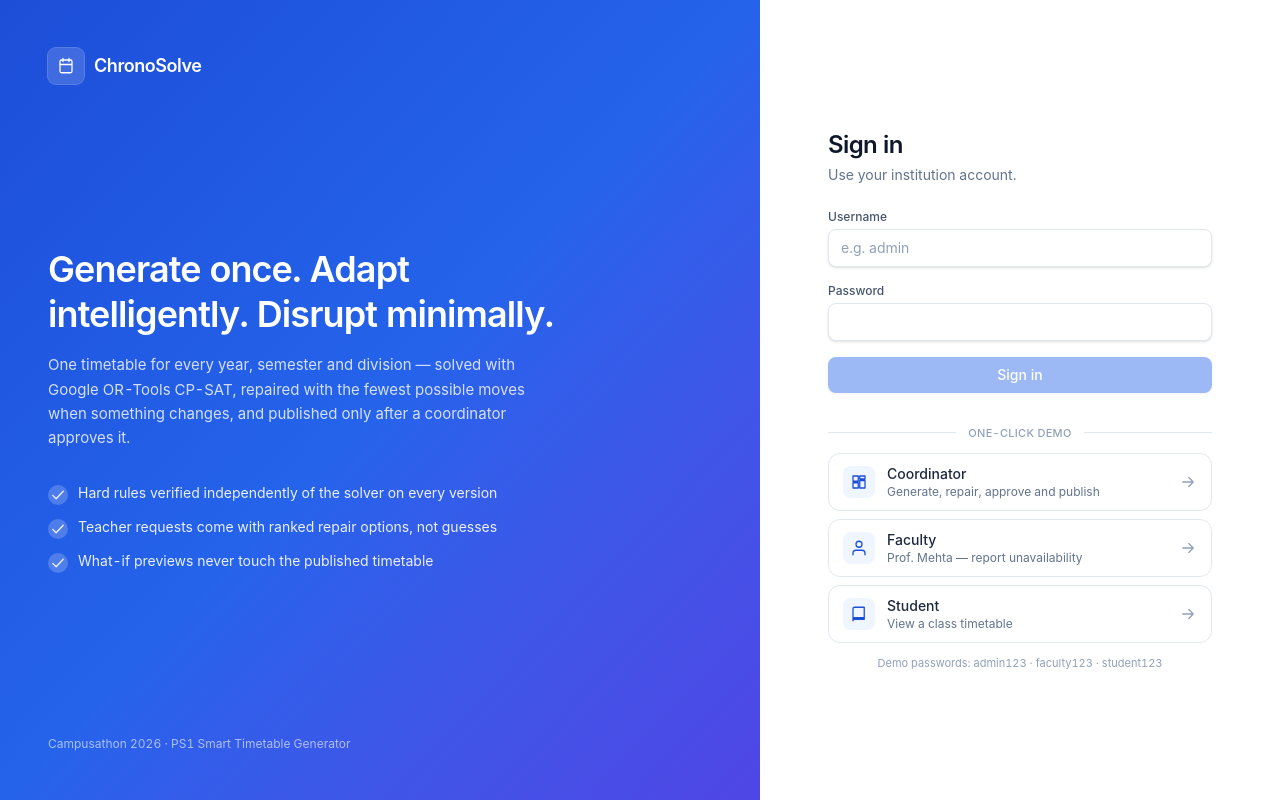
signing in › opens the coordinator dashboard after a demo sign-in
The width and height of the screenshot is (1280, 800).
Click the button with aria-label "Sign in as Coordinator".
click(1020, 482)  # box [828,453,1212,511]
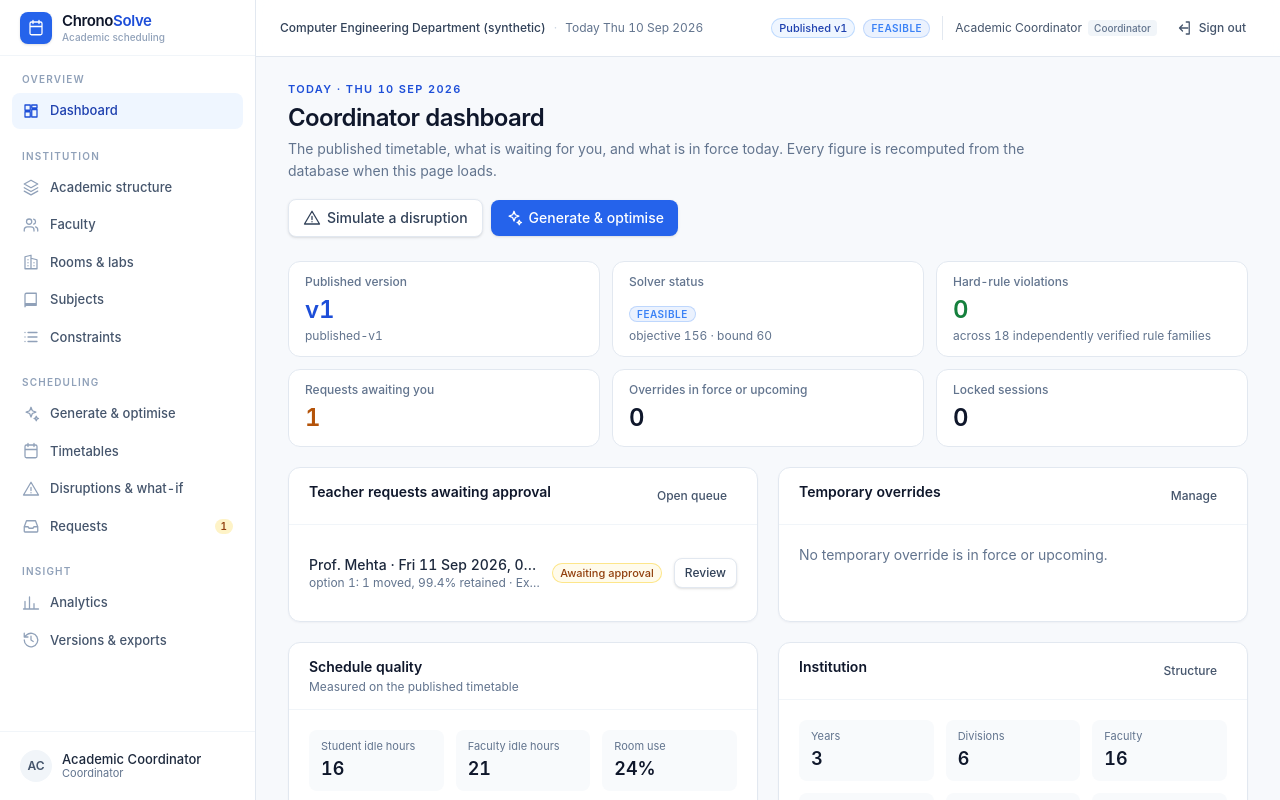
Result: the heading "Coordinator dashboard" is shown at [288,102,544,132]
